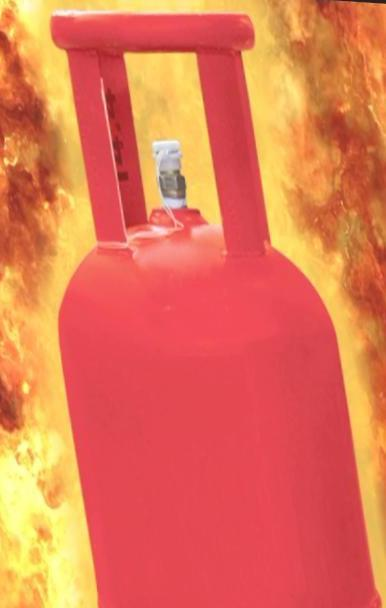cylinder: (1, 1, 386, 608)
